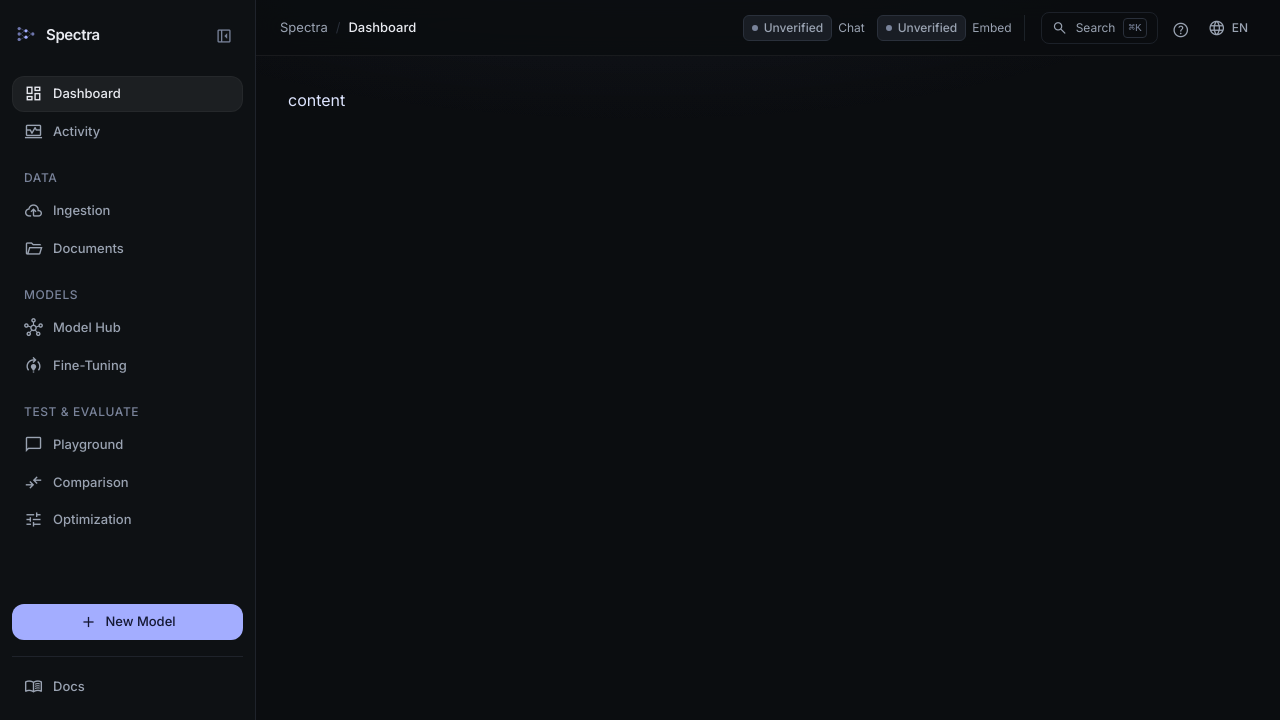
Test: Layout › opens the palette from the header search button
What coordinates should you click on to do the following:
click the button "Search ⌘K"
I would click on:
 (1099, 28)
Its box is x1=1041 y1=12 x2=1158 y2=44.
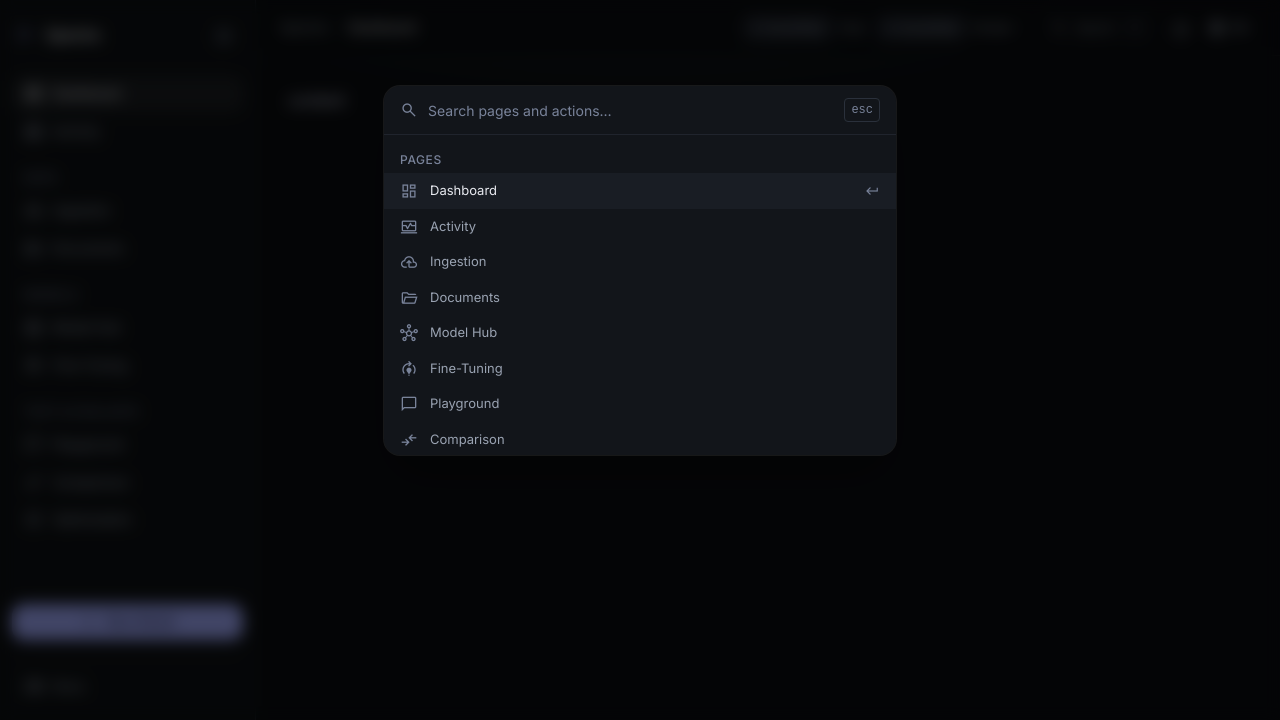
Expected: the dialog is shown, x1=384 y1=86 x2=896 y2=455
